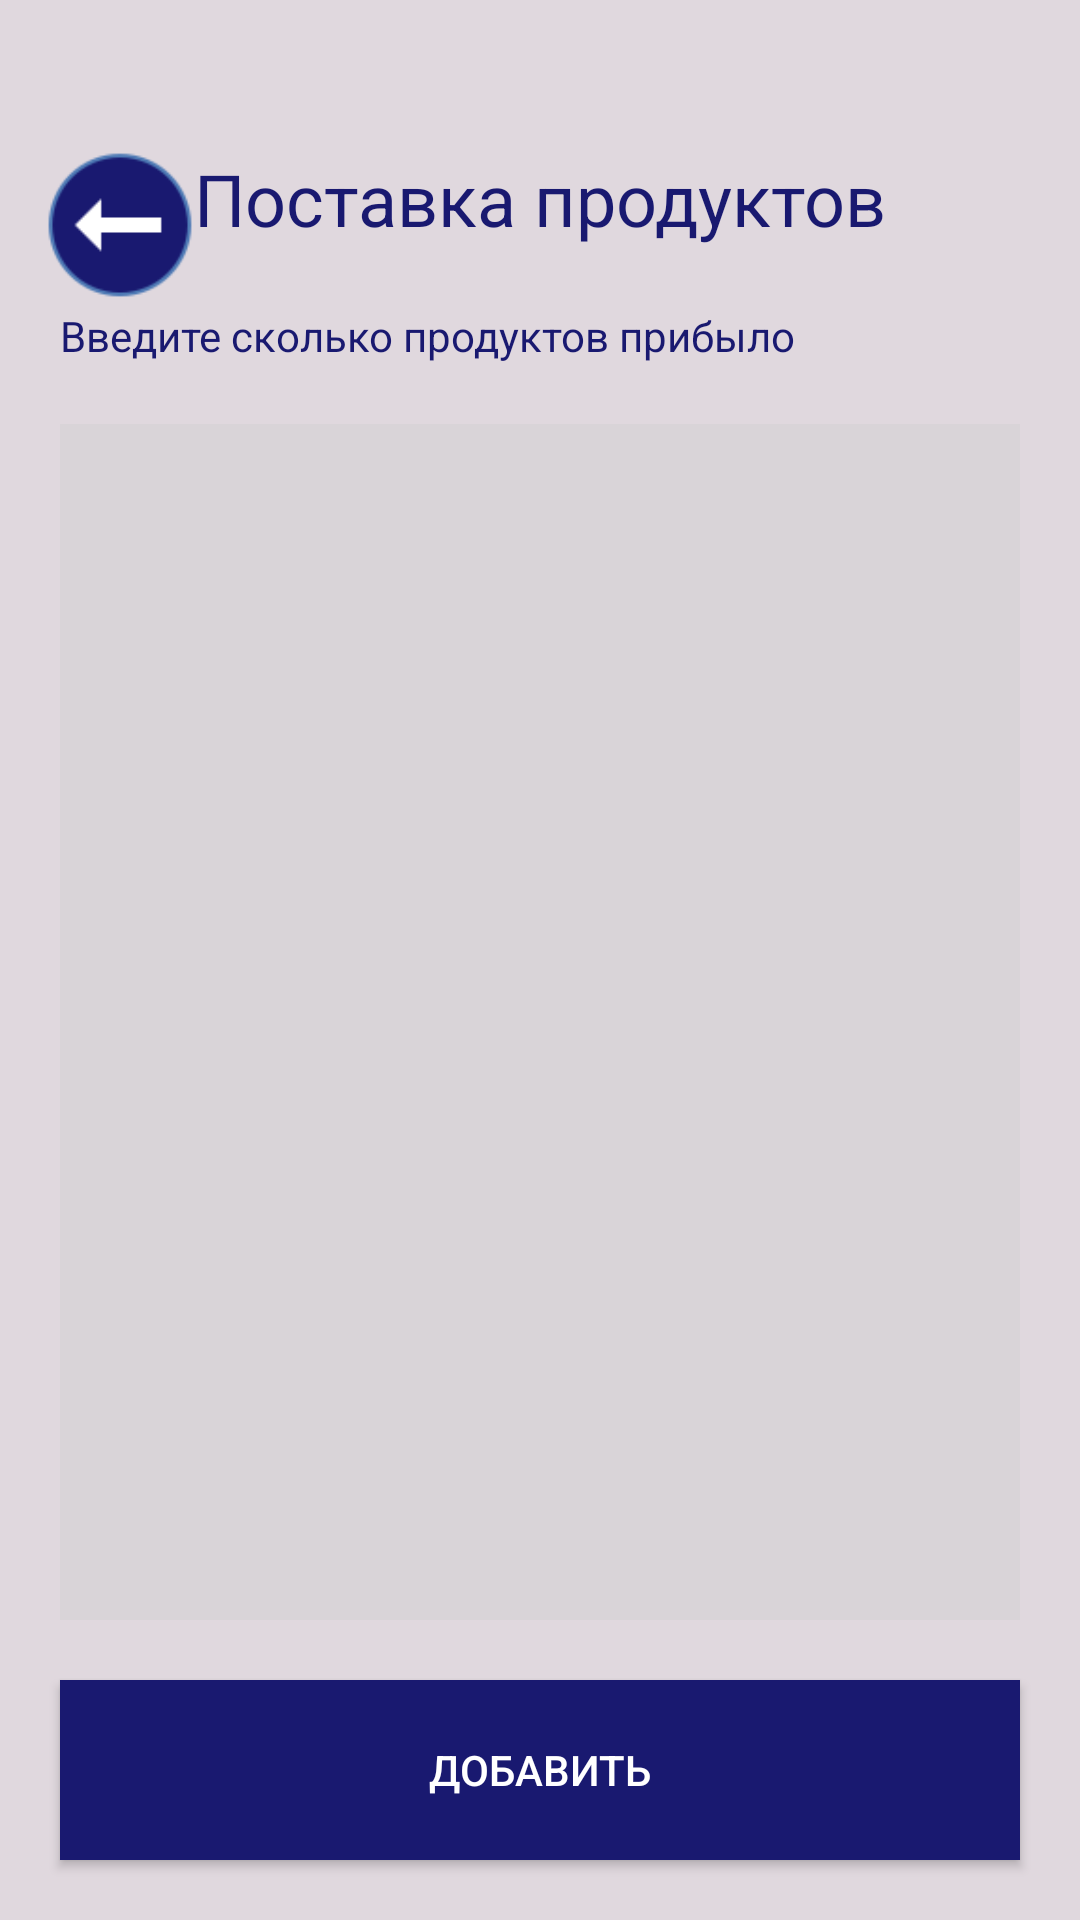

Locate icon controls on the screen. Image size 1080 × 1920, boxes as (left=x1, top=y1, right=x2, bottom=y2).
back: (left=48, top=153, right=192, bottom=297)
